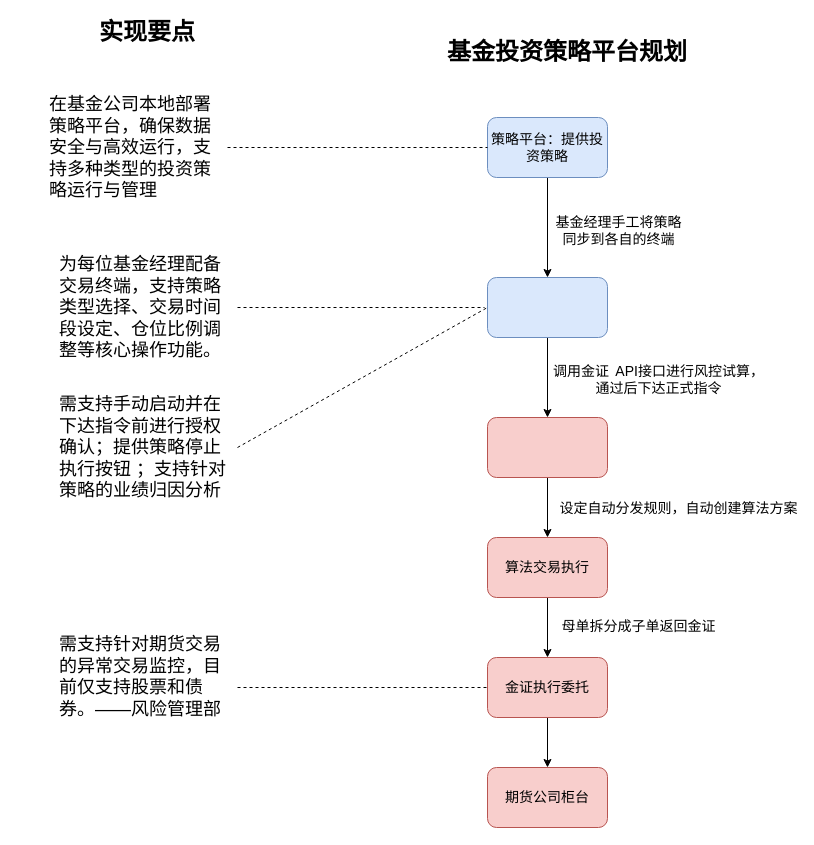
This 814x845 diagram has some shape labels left out. Here are the shapes that lost their labels. From the top down, the box of each, then its label:
(486, 276, 608, 338): 交易终端
(486, 416, 608, 478): 发送正式指令至金证投资交易系统
